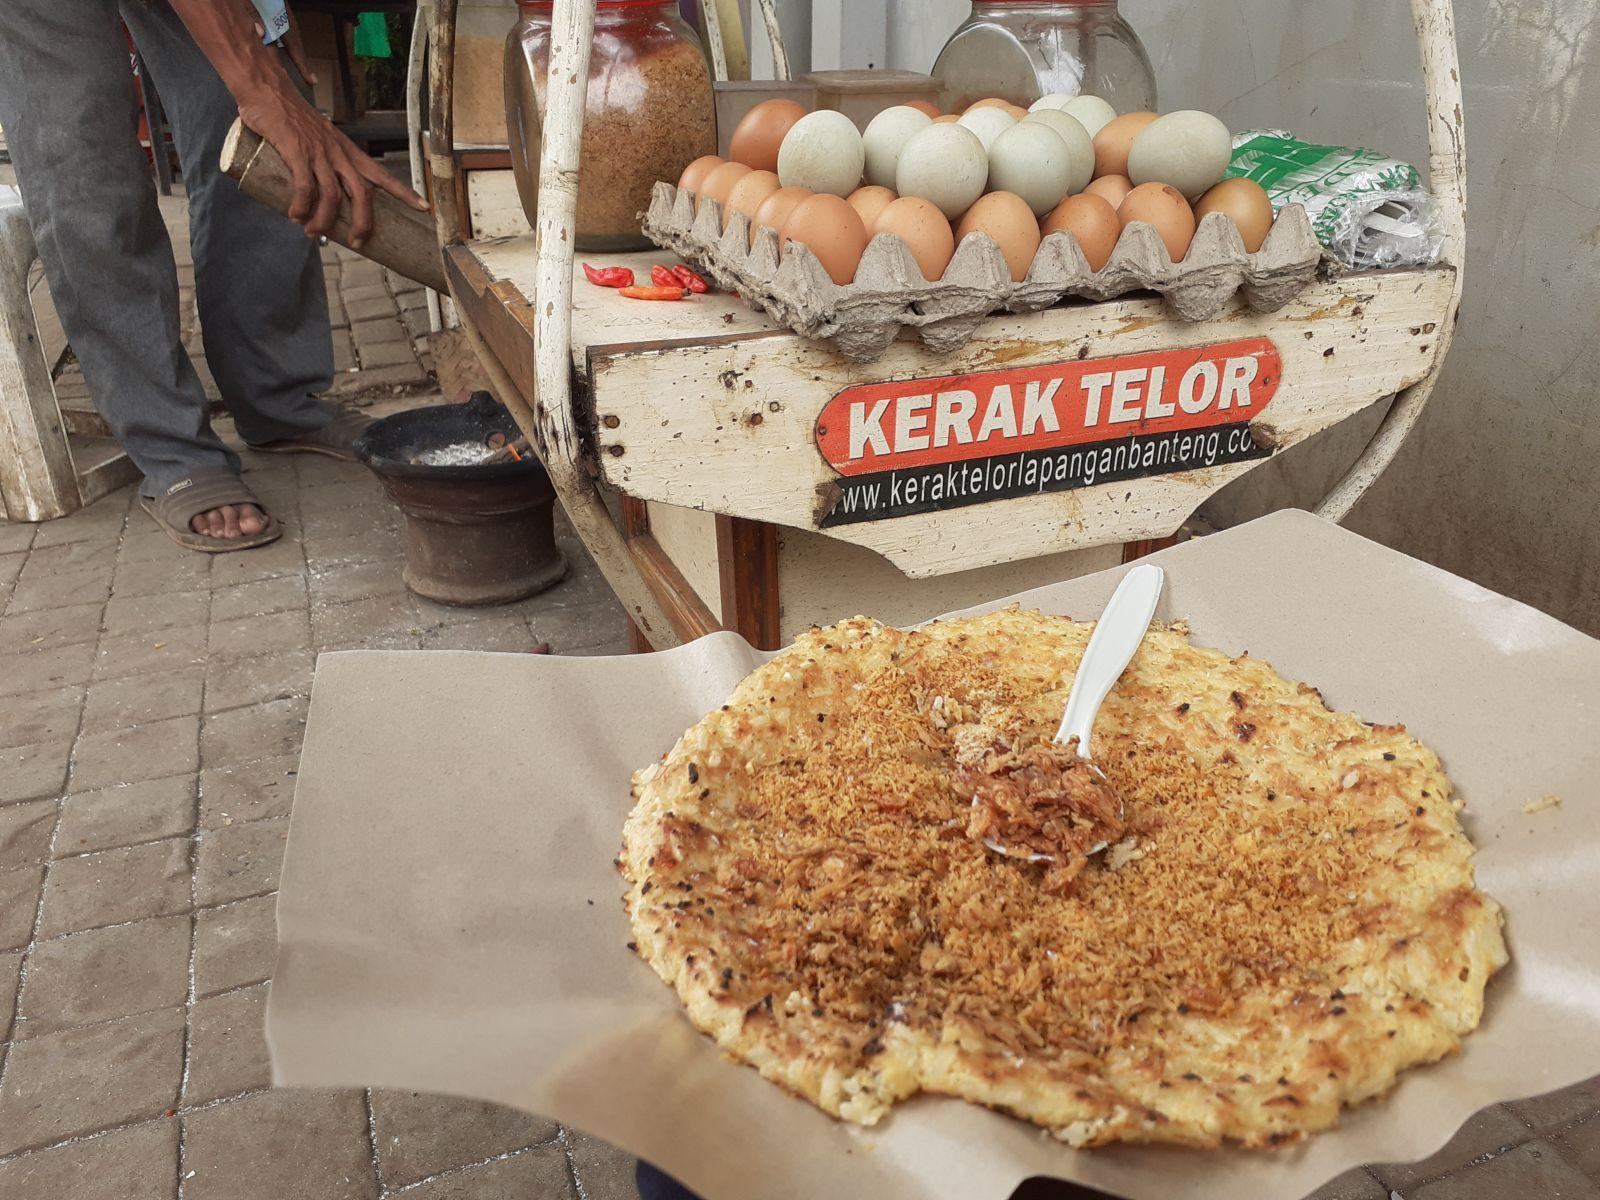kerak_telor: (625, 615, 1508, 1145)
